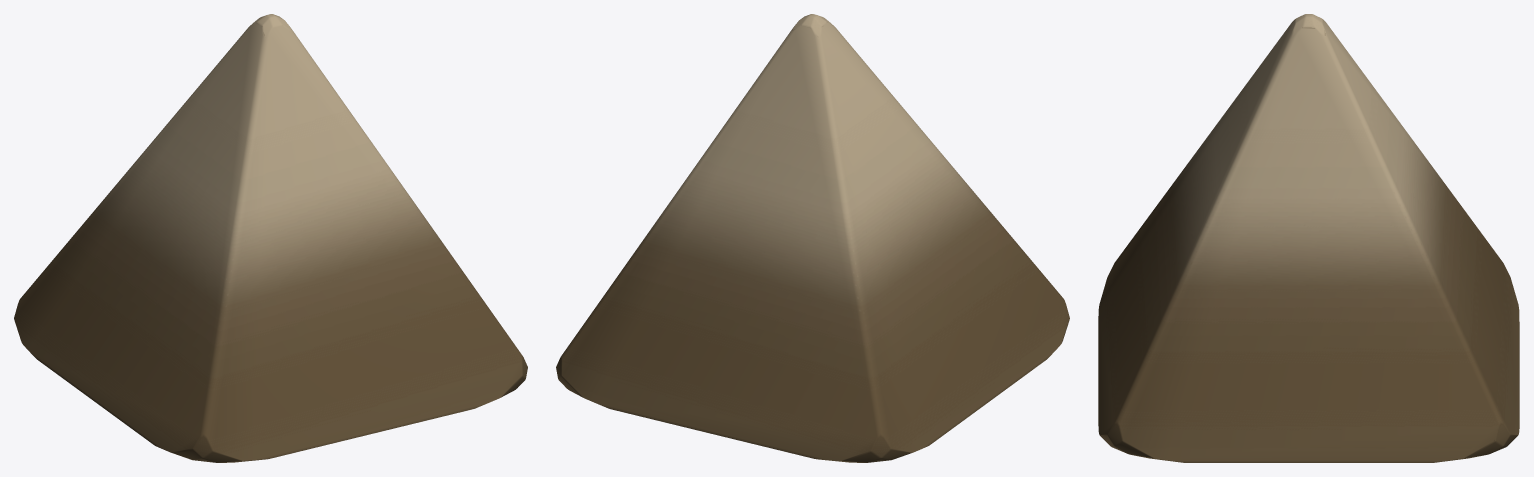
The model's file is mountain_default.glb.
The picture shows the model from 3 angles, left to right: view 1: azimuth 30°, elevation 25°; view 2: azimuth 150°, elevation 25°; view 3: azimuth 270°, elevation 25°; orthographic projection. The views are drawn at different scales.
Parts seen in each view (by area): view 1: mountain_default; view 2: mountain_default; view 3: mountain_default.
Boxes of the visible parts, left/top/right/bottom form: mountain_default: left=14, top=14, right=527, bottom=462; mountain_default: left=556, top=14, right=1069, bottom=462; mountain_default: left=1098, top=14, right=1519, bottom=462.
Size of the model in its own units: 1.03 by 0.9756 by 1.03.
1 material, 1 textured.
